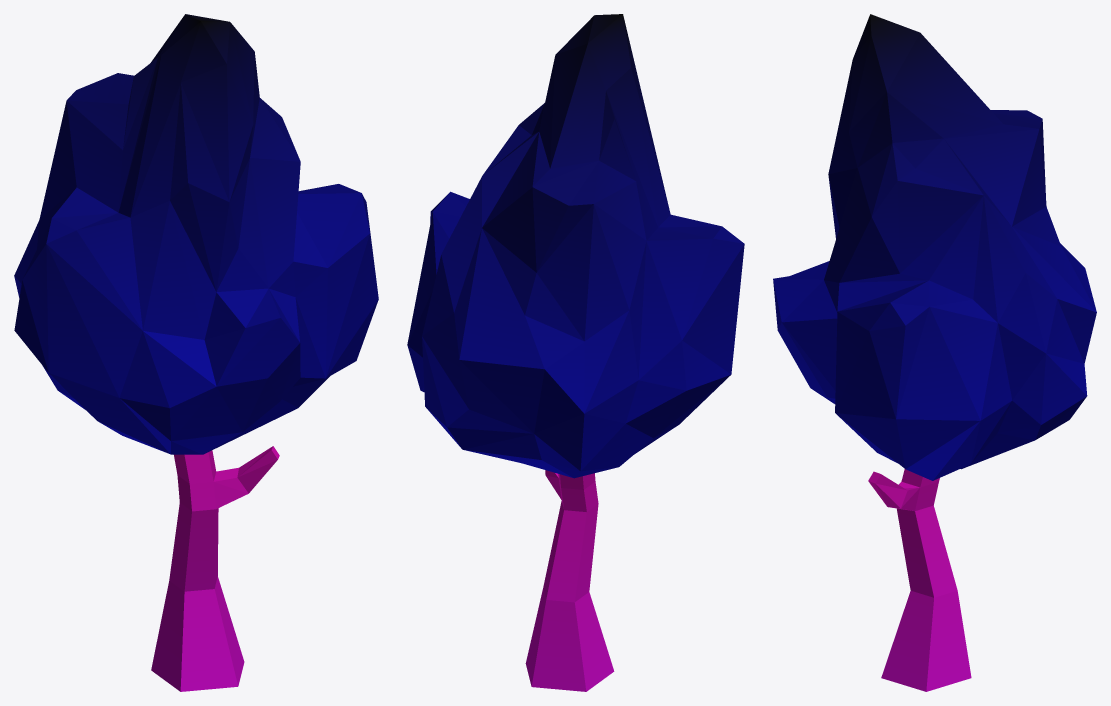
Rendered from SM_Tree_01.gltf.
3 renders of one model, left to right at view 1: azimuth 30°, elevation 25°; view 2: azimuth 150°, elevation 25°; view 3: azimuth 270°, elevation 25°, orthographic. The views are drawn at different scales.
Visible parts, largest first — view 1: SM_Tree_01; view 2: SM_Tree_01; view 3: SM_Tree_01.
Part boxes in pixels (bbox=[...]): SM_Tree_01: bbox=[14, 14, 378, 691]; SM_Tree_01: bbox=[407, 14, 744, 691]; SM_Tree_01: bbox=[773, 14, 1096, 691].
Size of the model in its own units: 3.18 by 6.21 by 2.83.
